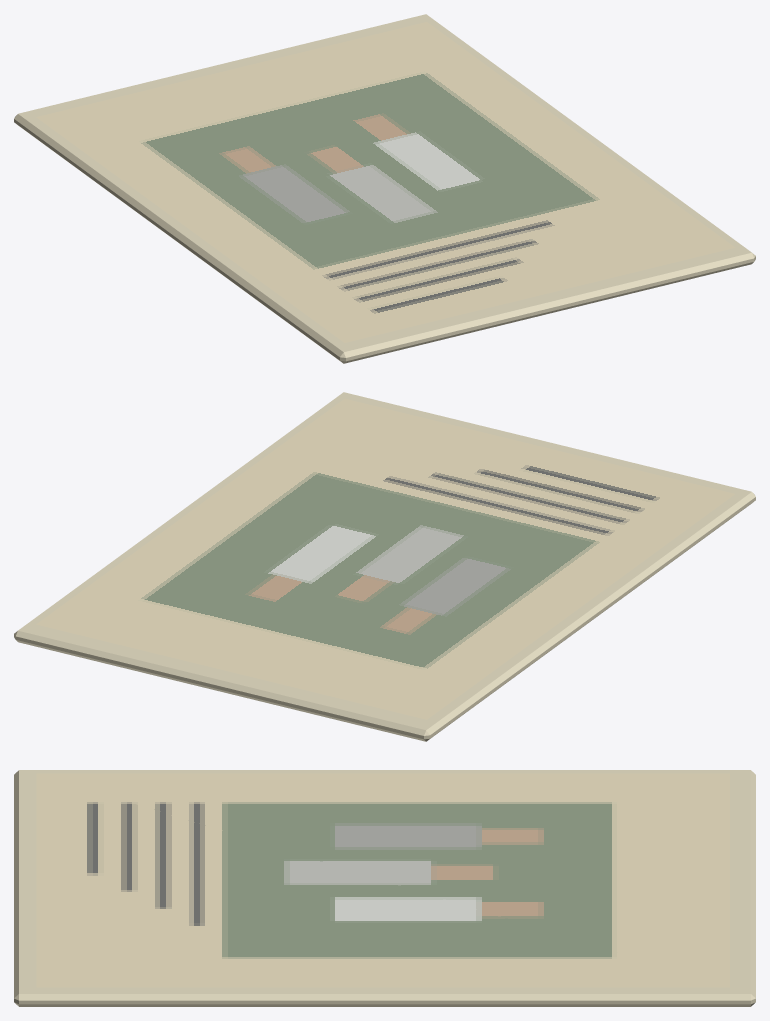
The model's file is family_photo.glb.
3 renders of one model, top to bottom at view 1: azimuth 30°, elevation 25°; view 2: azimuth 150°, elevation 25°; view 3: azimuth 270°, elevation 25°, orthographic. The views are drawn at different scales.
Parts seen in each view (by area): view 1: block_printed face, block_paper or card stock; view 2: block_printed face, block_paper or card stock; view 3: block_printed face, block_paper or card stock.
Boxes of the visible parts, box(x1,y1,x2,y2) form: block_printed face: box(36, 21, 735, 342); block_paper or card stock: box(14, 14, 755, 363); block_printed face: box(36, 398, 735, 719); block_paper or card stock: box(14, 392, 755, 741); block_printed face: box(36, 773, 729, 987); block_paper or card stock: box(14, 770, 755, 1006).
Bounding box in the file's own units: 0.1105 × 0.00328 × 0.152.
Materials: 1 (1 with a texture image).
